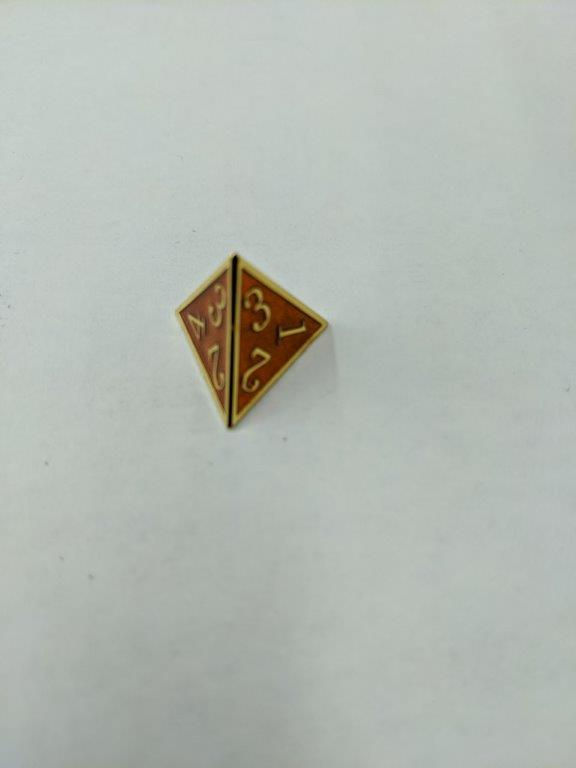d4-3: (175, 250, 333, 433)
